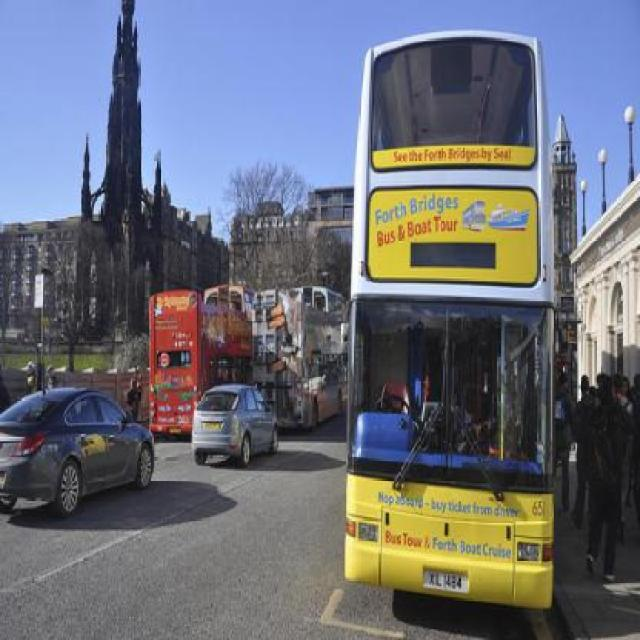Person: (585, 372, 624, 583), (613, 371, 639, 522), (571, 374, 594, 528), (554, 374, 575, 511), (123, 368, 143, 423), (505, 418, 520, 453), (25, 358, 37, 397), (622, 376, 633, 410), (46, 363, 60, 388)
